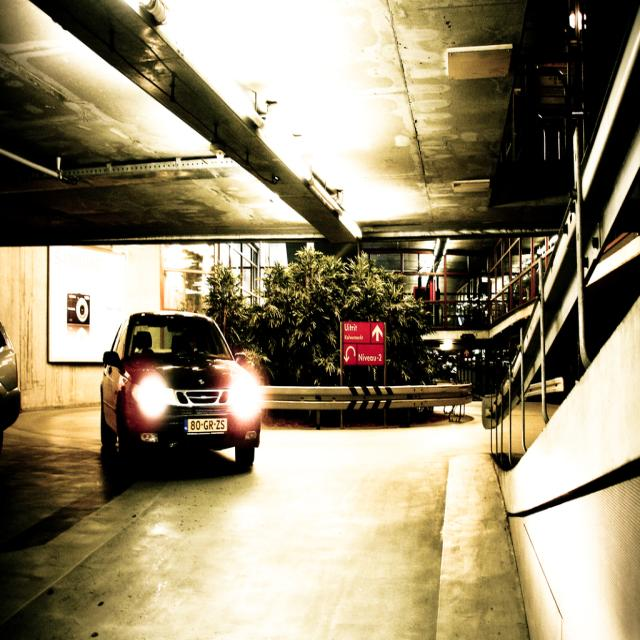car: (98, 298, 264, 471)
